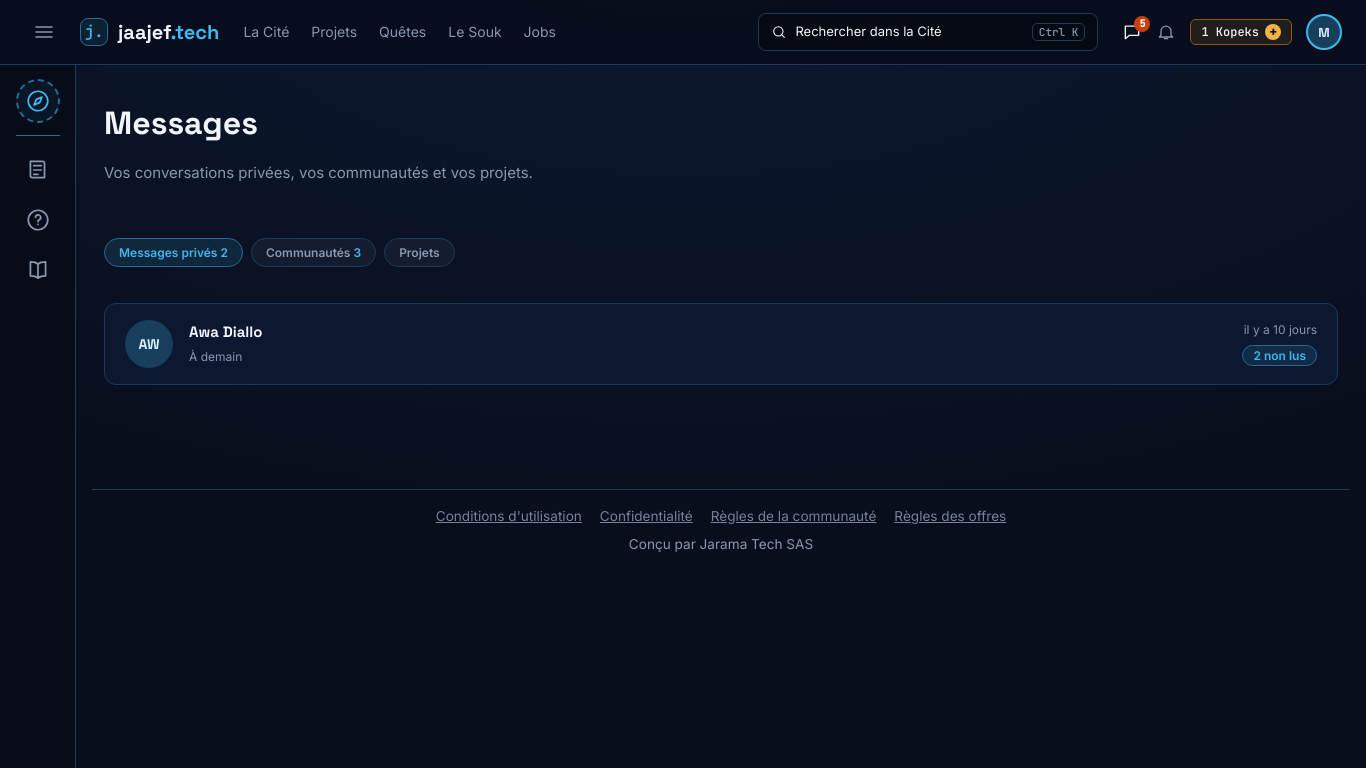
Inbox tabs › splits communities from project rooms, with last message and unread counts
Expected: the link "Awa Diallo" is shown, [189,322,262,341]
Click the tab "Communautés 3" at (314, 252), box [251,238,376,266]
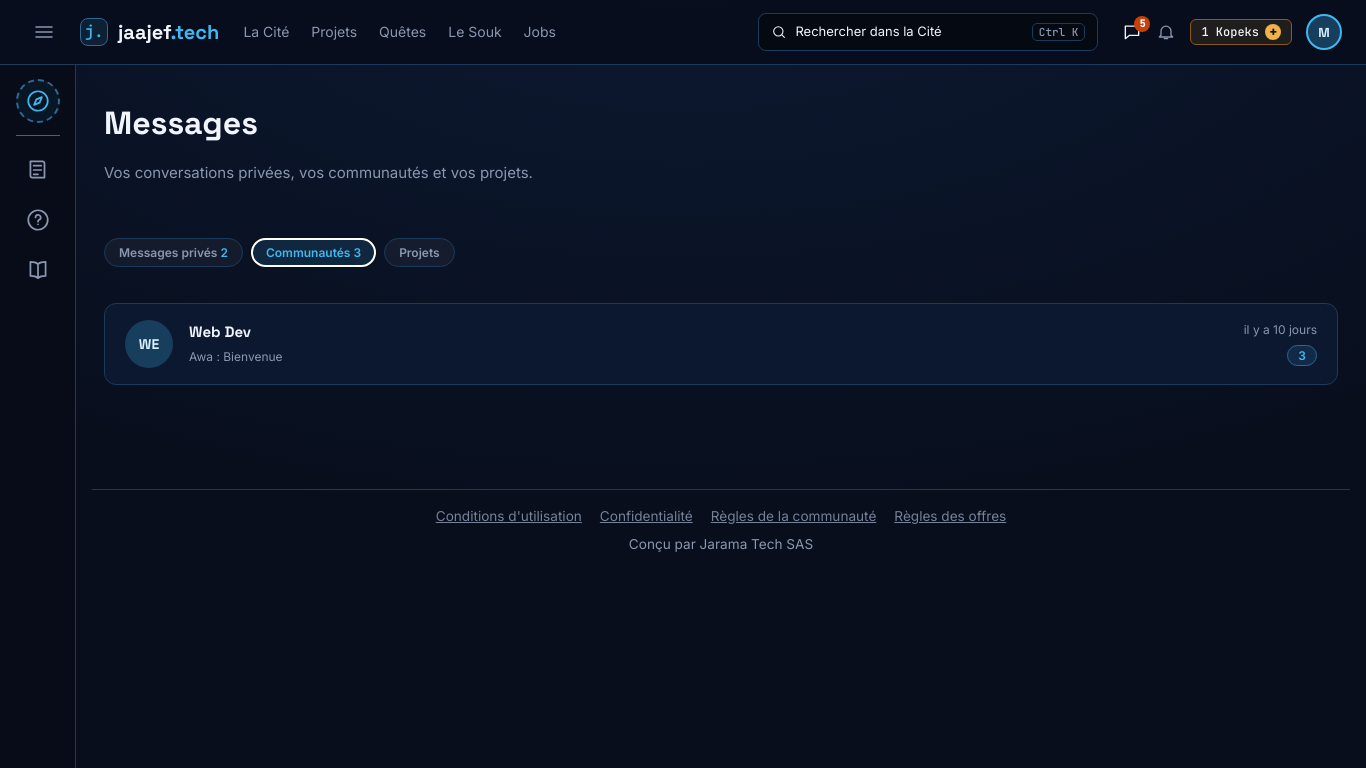
Expected: the text "3" is shown 2 times, [354,244,361,260]; [1287,345,1317,366]
Expected: the text "Awa : Bienvenue" is shown, [189,349,283,364]
Click the tab "Projets" at (419, 252), box [384,238,455,266]
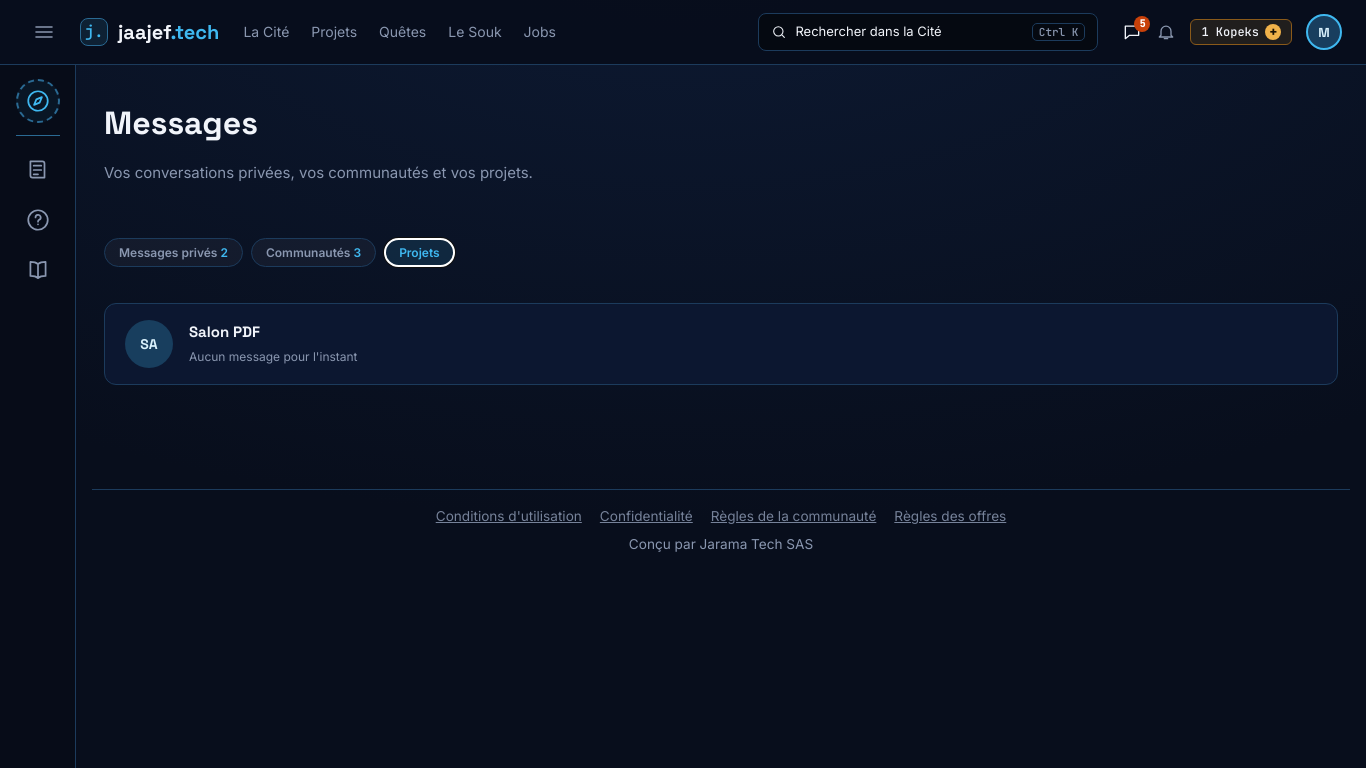
Expected: the text "Aucun message pour l'instant" is shown, [189,349,358,364]
